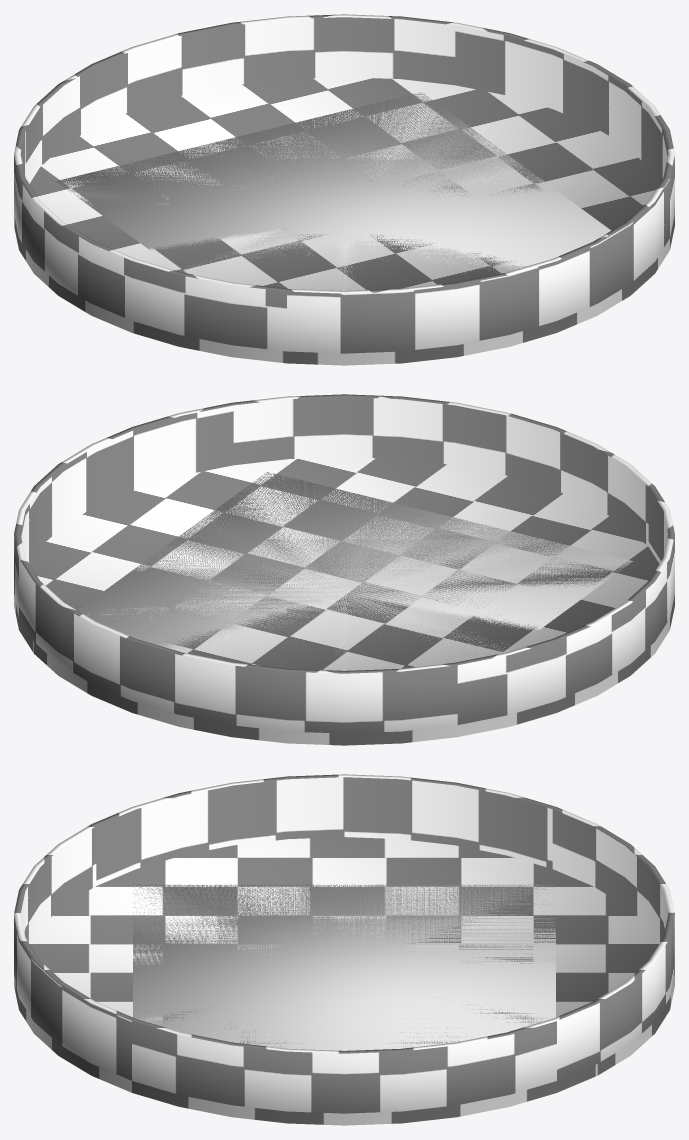
The model's file is Test_Arena.fbx.
3 renders of one model, top to bottom at view 1: azimuth 30°, elevation 25°; view 2: azimuth 150°, elevation 25°; view 3: azimuth 270°, elevation 25°, orthographic.
Visible parts, largest first — view 1: Cylinder, Cube; view 2: Cylinder, Cube; view 3: Cylinder, Cube.
Boxes of the visible parts, x1,y1,x2,y2 form: Cylinder: [14, 14, 674, 365]; Cube: [56, 92, 610, 290]; Cylinder: [14, 394, 674, 745]; Cube: [78, 472, 632, 662]; Cylinder: [14, 774, 674, 1125]; Cube: [133, 884, 555, 1050].
Size of the model in its own units: 10000 by 1200 by 10000.
